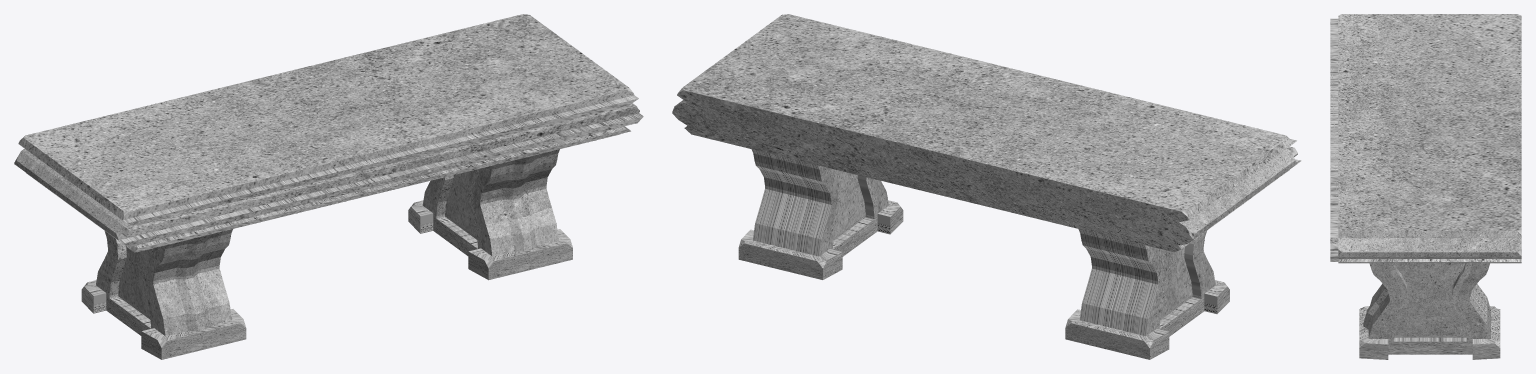
File: Bench_Stone.fbx
The picture shows the model from 3 angles, left to right: view 1: azimuth 30°, elevation 25°; view 2: azimuth 150°, elevation 25°; view 3: azimuth 270°, elevation 25°; orthographic projection. The views are drawn at different scales.
Visible parts, largest first — view 1: Bench_Stone_LOD0; view 2: Bench_Stone_LOD0; view 3: Bench_Stone_LOD0.
Boxes of the visible parts, x1,y1,x2,y2 form: Bench_Stone_LOD0: (14,14,643,359); Bench_Stone_LOD0: (672,14,1301,359); Bench_Stone_LOD0: (1330,14,1521,359).
Size of what is drawn, in the model's own units: 862 by 265 by 312.
